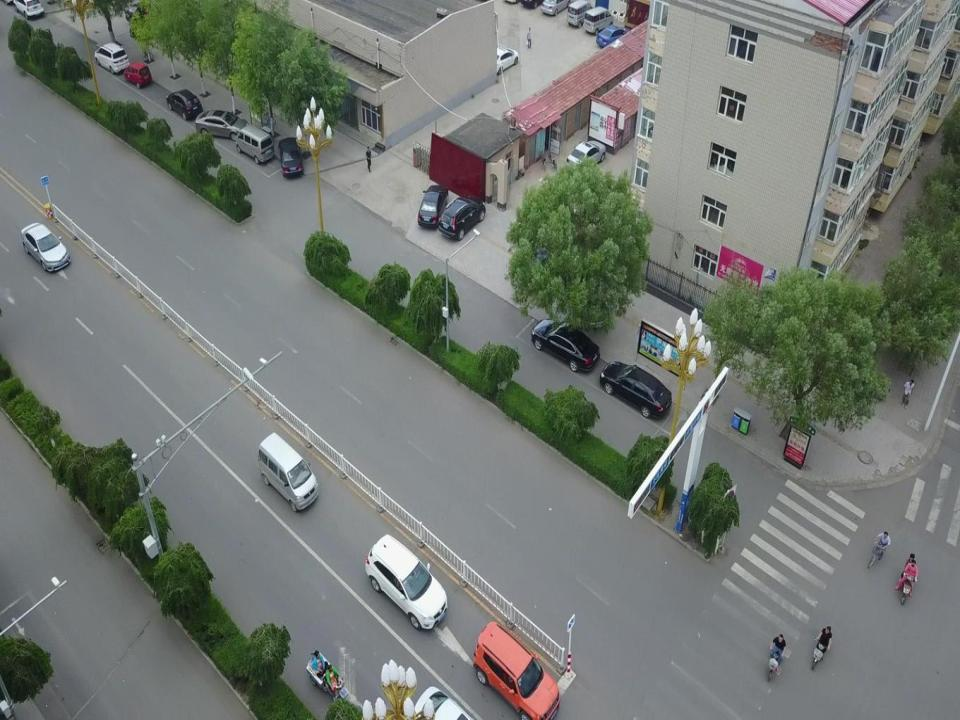car: (473, 620, 558, 720), (365, 534, 447, 630), (600, 359, 672, 419), (529, 317, 599, 373), (21, 222, 71, 272), (438, 194, 486, 241), (522, 248, 566, 296), (576, 278, 610, 330), (195, 108, 250, 140), (418, 184, 448, 228), (566, 140, 606, 172), (166, 87, 203, 120), (94, 44, 130, 74), (482, 48, 520, 76), (278, 136, 304, 176), (596, 25, 630, 48), (126, 3, 160, 22), (12, 0, 43, 20), (541, 0, 571, 14)
van: (258, 432, 319, 511), (235, 126, 275, 165), (584, 6, 614, 34), (566, 0, 594, 28)
